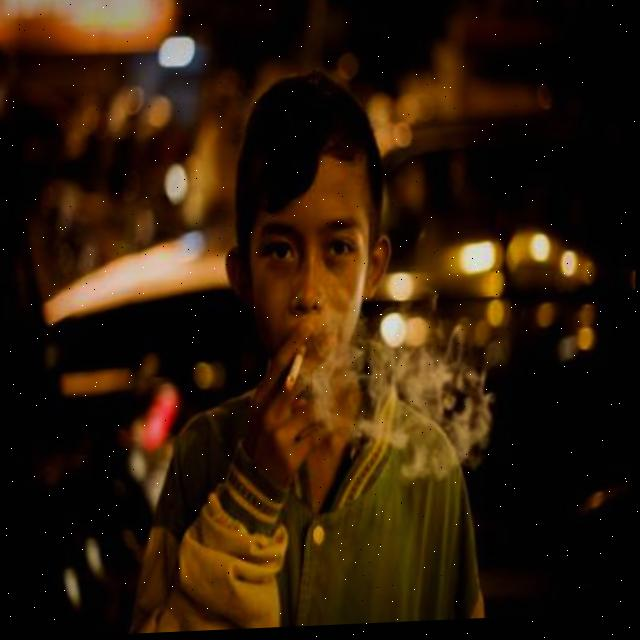cigarette: (283, 343, 310, 396)
